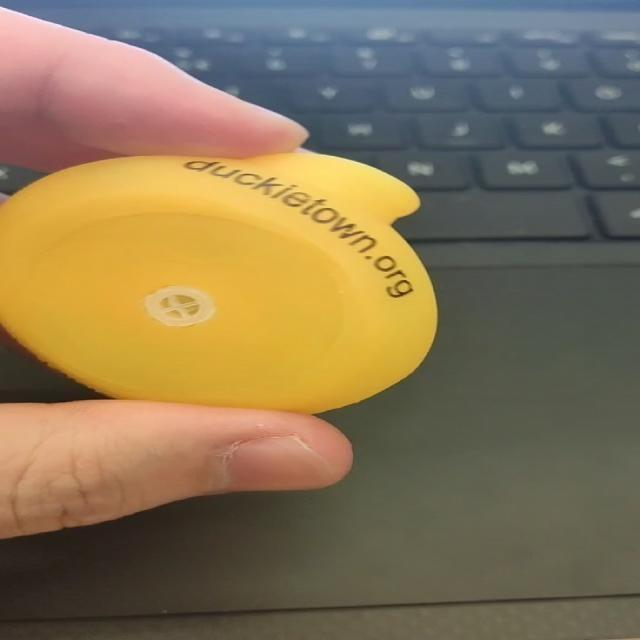rubber-duck: (0, 151, 435, 410)
